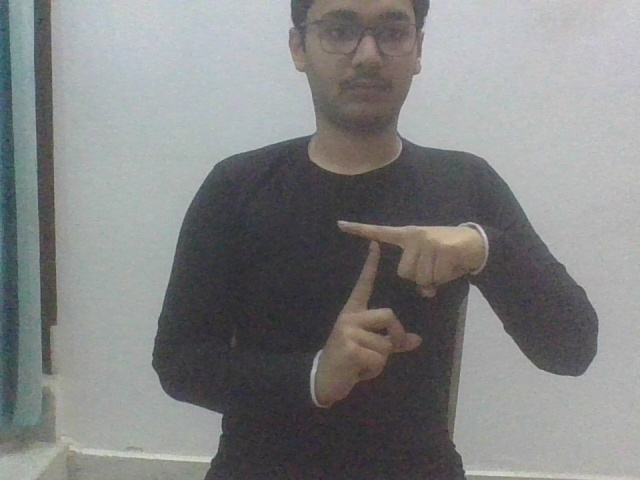T: (308, 216, 489, 404)
